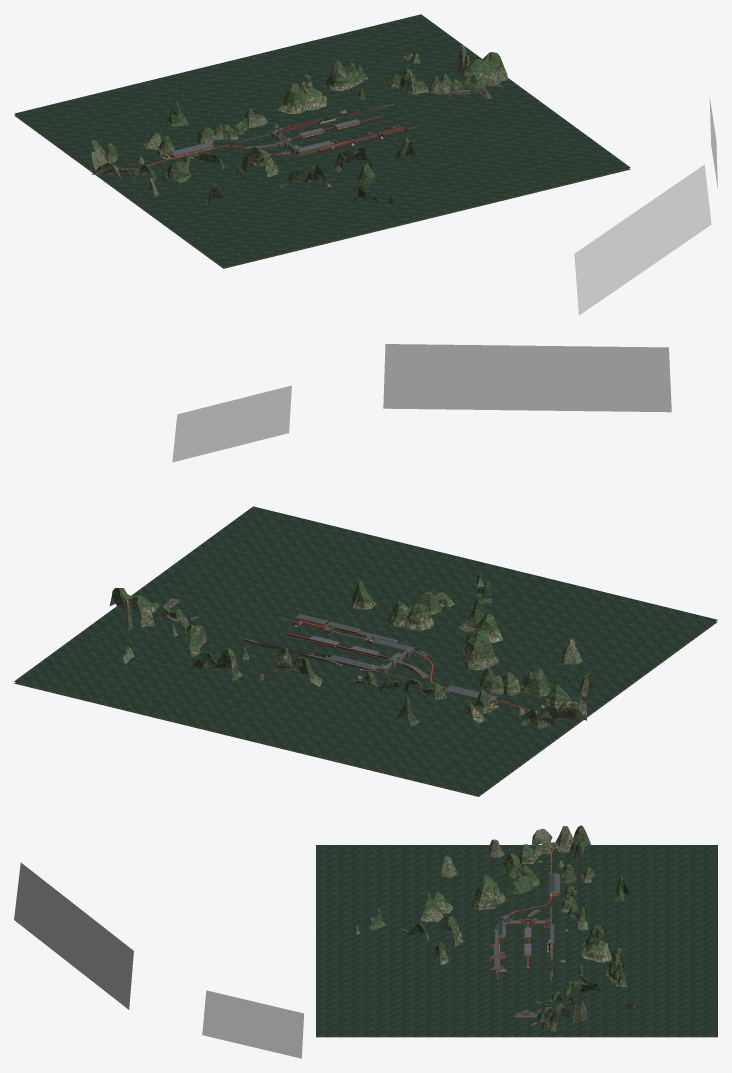
File: dragonRoad fixed fbx.fbx_Collection.fbx
The picture shows the model from 3 angles, top to bottom: view 1: azimuth 30°, elevation 25°; view 2: azimuth 150°, elevation 25°; view 3: azimuth 270°, elevation 25°; orthographic projection. The views are drawn at different scales.
Visible parts, largest first — view 1: stg041_w_A00_Mesh_0000, stg041_o_A04_Mesh_0013, stg041_o_A24_Mesh_0000, stg041_o_A20_Mesh_0000, stg041_o_A26_Mesh_0001, stg041_o_A20_Mesh_0001, stg041_o_A02_Mesh_0017, stg041_o_A04_Mesh_0011, stg041_o_A02_Mesh_0018, stg041_o_A04_Mesh_0010, stg041_o_A26_Mesh_0002, stg041_o_A06_Mesh_0000 (+2 smaller); view 2: stg041_w_A00_Mesh_0000, stg041_o_A04_Mesh_0013, stg041_o_A24_Mesh_0000, stg041_o_A04_Mesh_0010, stg041_o_A02_Mesh_0017, stg041_o_A04_Mesh_0011, stg041_o_A02_Mesh_0018, stg041_o_A01_Mesh_0013, stg041_o_A02_Mesh_0015, stg041_o_A26_Mesh_0001, stg041_o_A20_Mesh_0000, stg041_o_A20_Mesh_0001; view 3: stg041_w_A00_Mesh_0000, stg041_o_A04_Mesh_0013, stg041_o_A24_Mesh_0000, stg041_o_A02_Mesh_0017, stg041_o_A01_Mesh_0013, stg041_o_A02_Mesh_0018, stg041_o_A04_Mesh_0011, stg041_o_A04_Mesh_0010, stg041_o_A20_Mesh_0000, stg041_o_A06_Mesh_0000, stg041_o_A26_Mesh_0002, stg041_o_A26_Mesh_0001 (+5 smaller).
Boxes of the visible parts, x1,y1,x2,y2 form: stg041_w_A00_Mesh_0000: (14,14,630,266); stg041_o_A04_Mesh_0013: (574,97,717,315); stg041_o_A24_Mesh_0000: (14,115,630,268); stg041_o_A20_Mesh_0000: (392,52,501,92); stg041_o_A26_Mesh_0001: (278,65,368,113); stg041_o_A20_Mesh_0001: (387,52,506,92); stg041_o_A02_Mesh_0017: (148,133,269,183); stg041_o_A04_Mesh_0011: (289,138,414,201); stg041_o_A02_Mesh_0018: (147,133,279,181); stg041_o_A04_Mesh_0010: (280,144,415,206); stg041_o_A26_Mesh_0002: (285,60,365,100); stg041_o_A06_Mesh_0000: (166,101,261,135); stg041_w_A00_Mesh_0000: (14,506,717,794); stg041_o_A04_Mesh_0013: (172,344,671,462); stg041_o_A24_Mesh_0000: (14,621,717,796); stg041_o_A04_Mesh_0010: (350,574,502,642); stg041_o_A02_Mesh_0017: (466,630,550,718); stg041_o_A04_Mesh_0011: (354,581,497,626); stg041_o_A02_Mesh_0018: (456,637,551,718); stg041_o_A01_Mesh_0013: (517,674,592,728); stg041_o_A02_Mesh_0015: (461,639,582,723); stg041_o_A26_Mesh_0001: (187,648,322,686); stg041_o_A20_Mesh_0000: (112,588,203,647); stg041_o_A20_Mesh_0001: (109,595,206,663); stg041_w_A00_Mesh_0000: (316,845,717,1035); stg041_o_A04_Mesh_0013: (14,862,304,1058); stg041_o_A24_Mesh_0000: (316,1035,717,1037); stg041_o_A02_Mesh_0017: (477,853,591,891); stg041_o_A01_Mesh_0013: (487,826,584,867); stg041_o_A02_Mesh_0018: (471,868,594,910); stg041_o_A04_Mesh_0011: (369,892,458,960); stg041_o_A04_Mesh_0010: (355,898,463,964); stg041_o_A20_Mesh_0000: (538,978,597,1019); stg041_o_A06_Mesh_0000: (562,876,628,921); stg041_o_A26_Mesh_0002: (578,925,625,983); stg041_o_A26_Mesh_0001: (578,926,626,987).
Size of the model in its own units: 293502 by 45332 by 377557.
55 materials, 54 textured.
